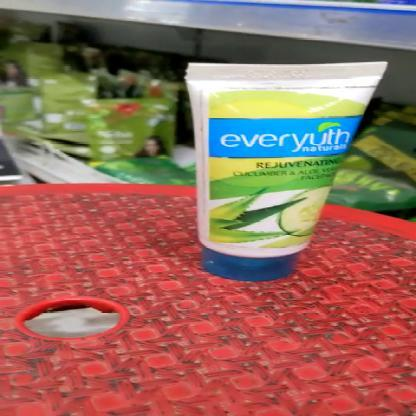EY RJ CUCUMBER ALOEVERA FACEPAK50G: (183, 66, 382, 283)
